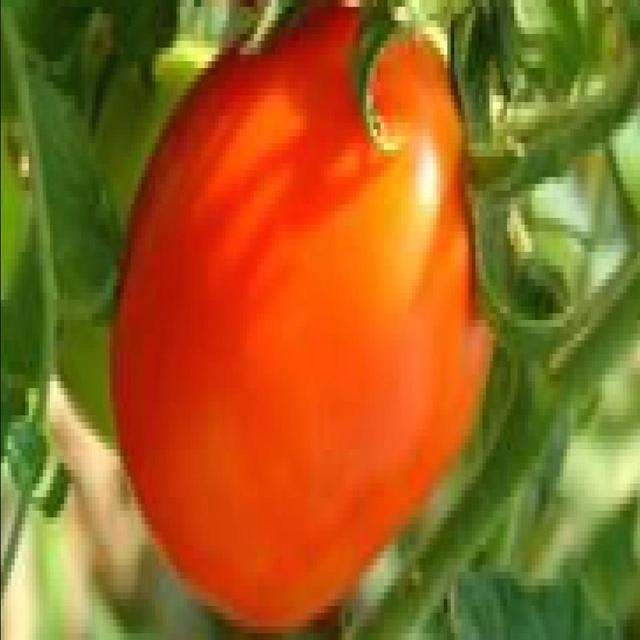Healthy Fruit: (84, 15, 320, 427)
